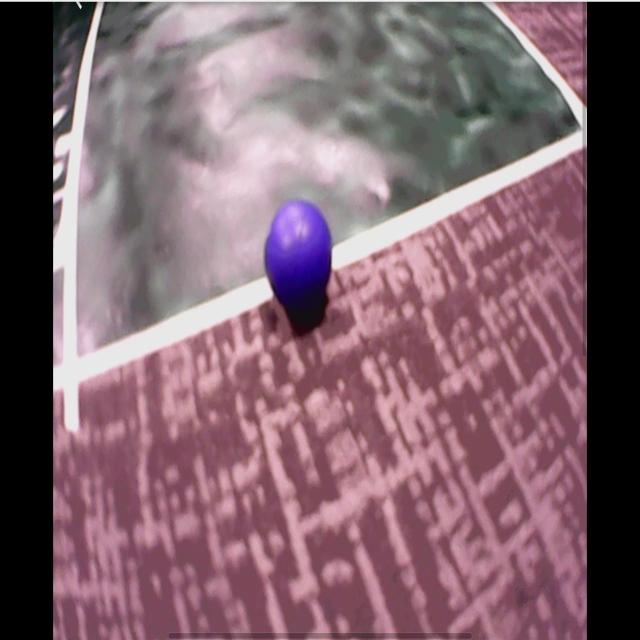ball: (267, 200, 333, 302)
